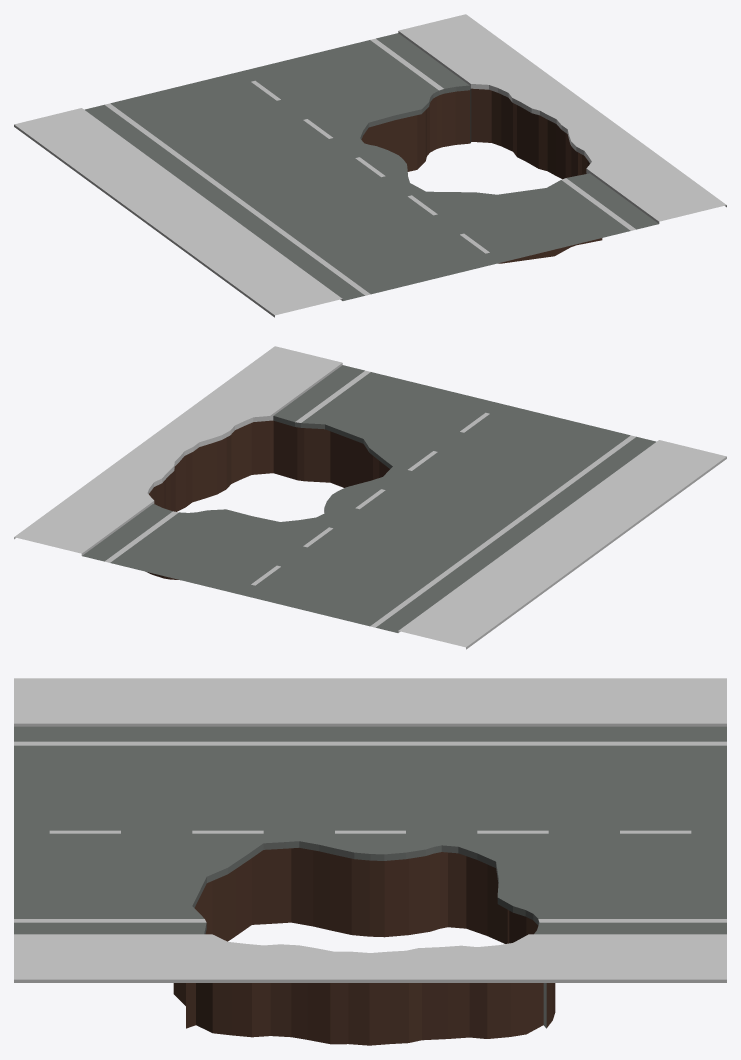
Rendered from Straight_Cracked.fbx.
3 views of the same model, one above another, from view 1: azimuth 30°, elevation 25°; view 2: azimuth 150°, elevation 25°; view 3: azimuth 270°, elevation 25° (orthographic). The views are drawn at different scales.
Parts seen in each view (by area): view 1: Straight_Cracked; view 2: Straight_Cracked; view 3: Straight_Cracked.
Boxes of the visible parts, left/top/right/bottom form: Straight_Cracked: left=14, top=14, right=726, bottom=317; Straight_Cracked: left=14, top=346, right=726, bottom=649; Straight_Cracked: left=14, top=678, right=726, bottom=1045.
Size of the model in its own units: 30 by 4.19 by 30.
